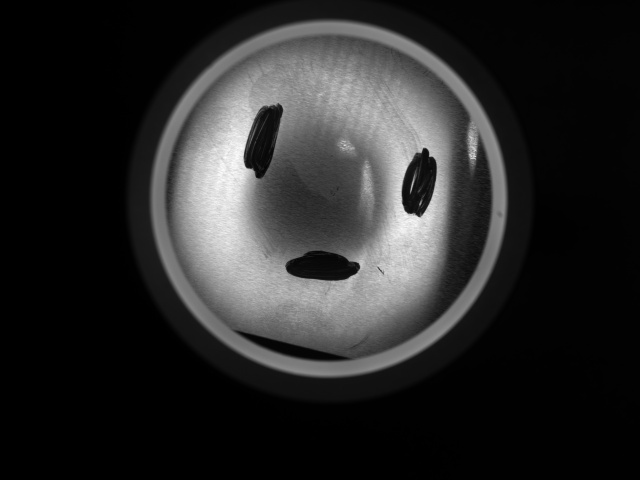zang_wu: (240, 102, 287, 181), (398, 145, 439, 220), (285, 249, 364, 281)
